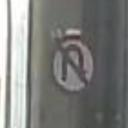NoVirarU: (51, 35, 95, 94)
